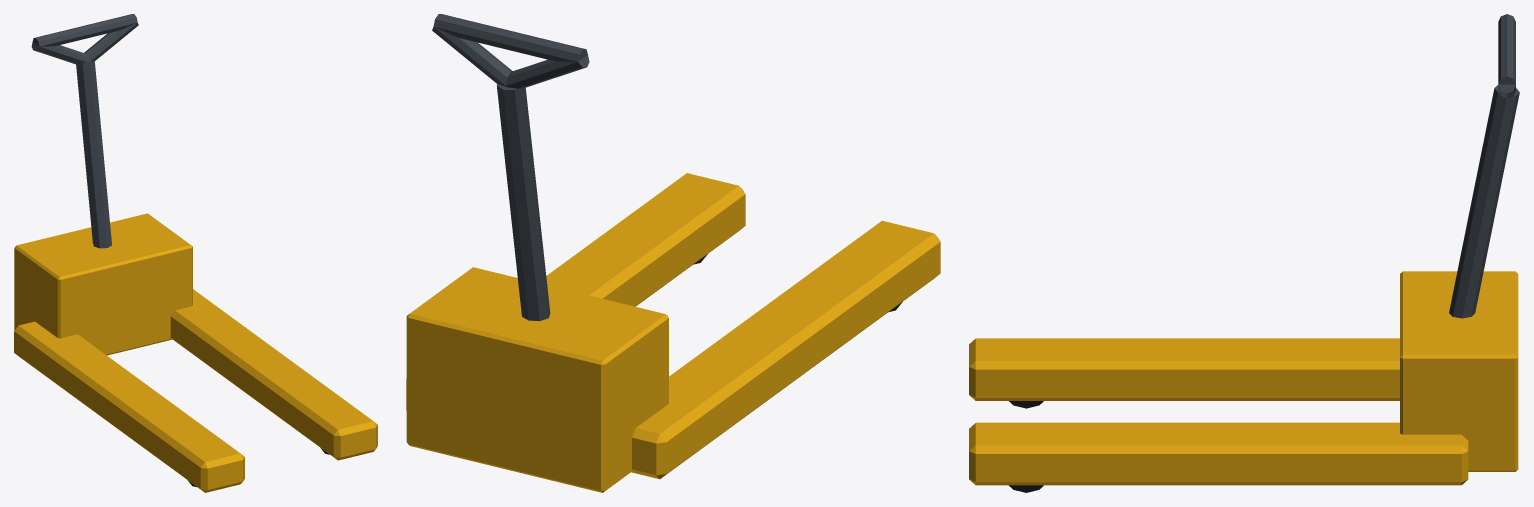
Rendered from HandPalletJack.fbx.
3 views of the same model, side by side, from view 1: azimuth 30°, elevation 25°; view 2: azimuth 150°, elevation 25°; view 3: azimuth 270°, elevation 25° (orthographic). The views are drawn at different scales.
Visible parts, largest first — view 1: HandPalletJack; view 2: HandPalletJack; view 3: HandPalletJack.
Part boxes in pixels (x1,y1,x2,y2): HandPalletJack: (14,14,377,492); HandPalletJack: (406,14,940,492); HandPalletJack: (969,14,1519,492).
Size of the model in its own units: 72 by 119 by 149.
1 material, 1 textured.
